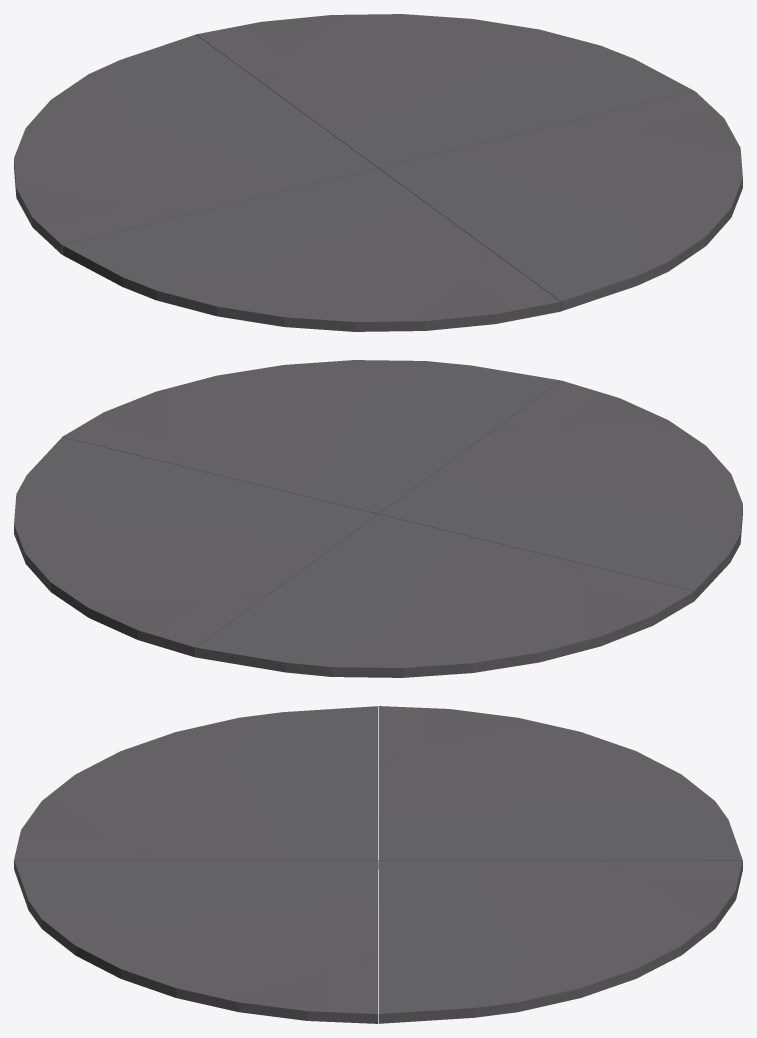
File: entryDoor.fbx
3 views of the same model, one above another, from view 1: azimuth 30°, elevation 25°; view 2: azimuth 150°, elevation 25°; view 3: azimuth 270°, elevation 25° (orthographic).
Visible parts, largest first — view 1: entryRU, entryLU, entryRB, entryLB; view 2: entryRB, entryLB, entryRU, entryLU; view 3: entryLU, entryLB, entryRB, entryRU.
Part boxes in pixels (left/top/right/bottom): entryRU: left=62, top=168, right=560, bottom=331; entryLU: left=379, top=91, right=742, bottom=311; entryRB: left=14, top=34, right=377, bottom=254; entryLB: left=196, top=14, right=693, bottom=168; entryRB: left=196, top=514, right=694, bottom=677; entryLB: left=14, top=437, right=377, bottom=657; entryRU: left=379, top=380, right=742, bottom=600; entryLU: left=62, top=360, right=560, bottom=514; entryLU: left=14, top=860, right=378, bottom=1023; entryLB: left=379, top=860, right=742, bottom=1023; entryRB: left=378, top=706, right=742, bottom=869; entryRU: left=14, top=706, right=377, bottom=869.
Size of the model in its own units: 397 by 5.91 by 397.
